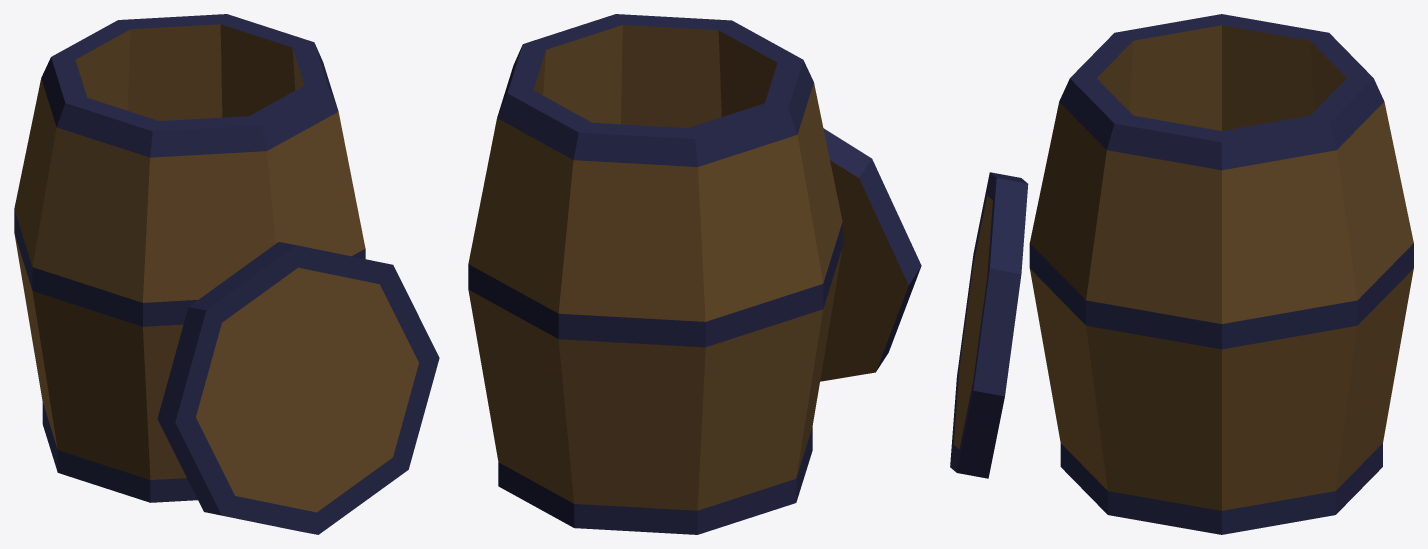
Rendered from ToolsStock.fbx.
The picture shows the model from 3 angles, left to right: view 1: azimuth 30°, elevation 25°; view 2: azimuth 150°, elevation 25°; view 3: azimuth 270°, elevation 25°; orthographic projection. The views are drawn at different scales.
Visible parts, largest first — view 1: Barrel; view 2: Barrel; view 3: Barrel.
Boxes of the visible parts, bbox=[...] form: Barrel: bbox=[14, 14, 439, 534]; Barrel: bbox=[468, 14, 921, 534]; Barrel: bbox=[950, 14, 1413, 534].
Size of the model in its own units: 238 by 271 by 288.
